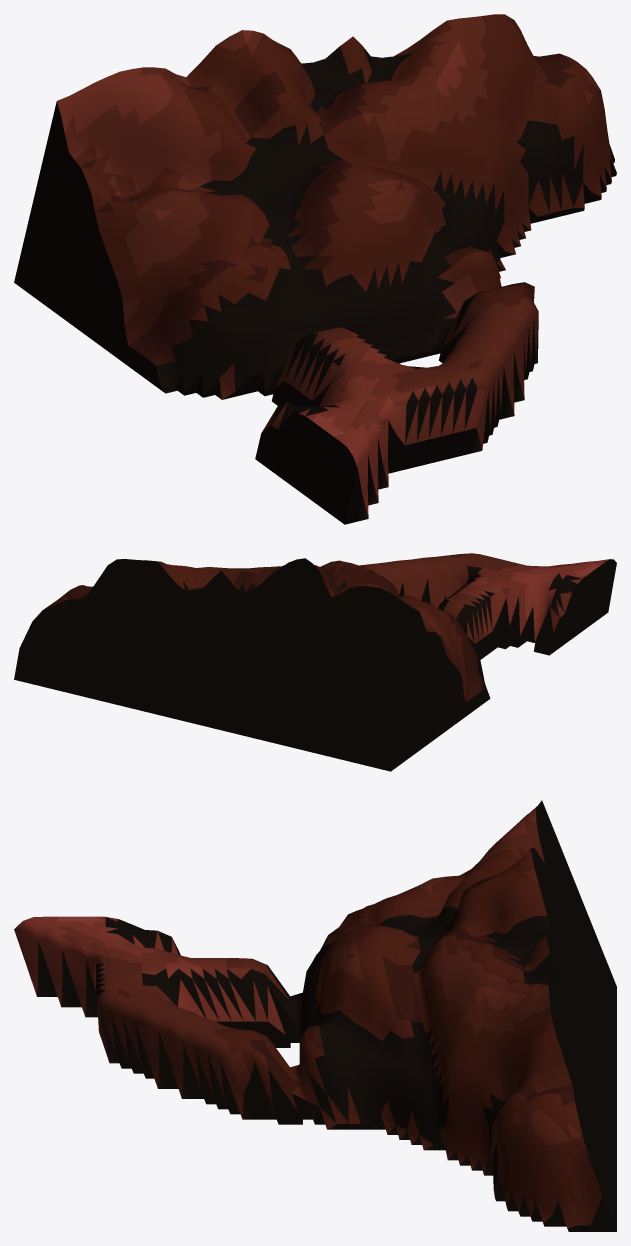
File: brain_bot_r.glb
The picture shows the model from 3 angles, top to bottom: view 1: azimuth 30°, elevation 25°; view 2: azimuth 150°, elevation 25°; view 3: azimuth 270°, elevation 25°; orthographic projection. The views are drawn at different scales.
Visible parts, largest first — view 1: brain_bot_r; view 2: brain_bot_r; view 3: brain_bot_r.
Part boxes in pixels (x1,y1,x2,y2): brain_bot_r: (14, 14, 616, 524); brain_bot_r: (14, 553, 616, 771); brain_bot_r: (14, 800, 616, 1231).
Size of the model in its own units: 24 by 9.8 by 24.95.
